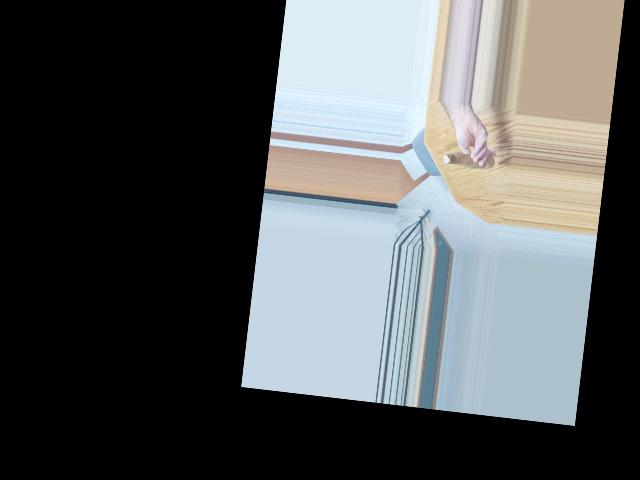sweet_potato: (445, 147, 492, 174)
